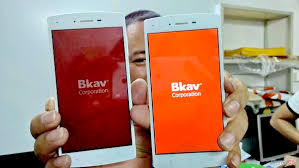bphone: (38, 7, 136, 166), (143, 11, 231, 168)
